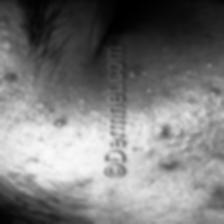Non-Cancerous Skin Condition: (147, 37, 224, 174), (38, 89, 96, 139), (197, 189, 224, 224)
